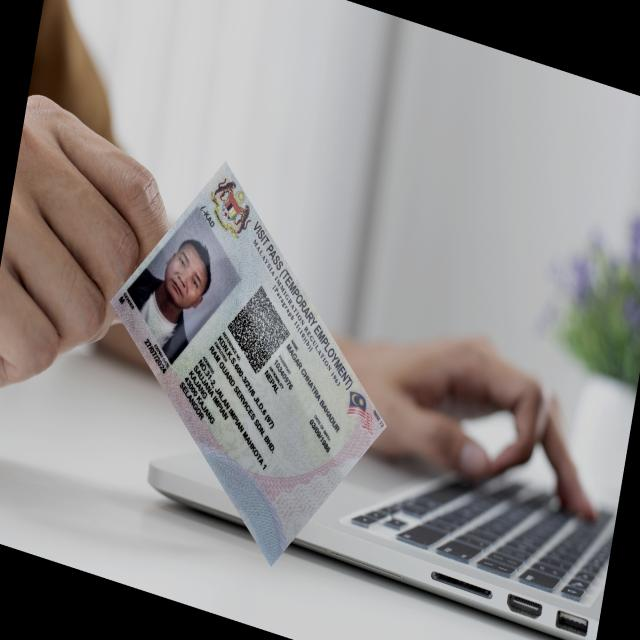ikad-temp: (109, 160, 387, 566)
